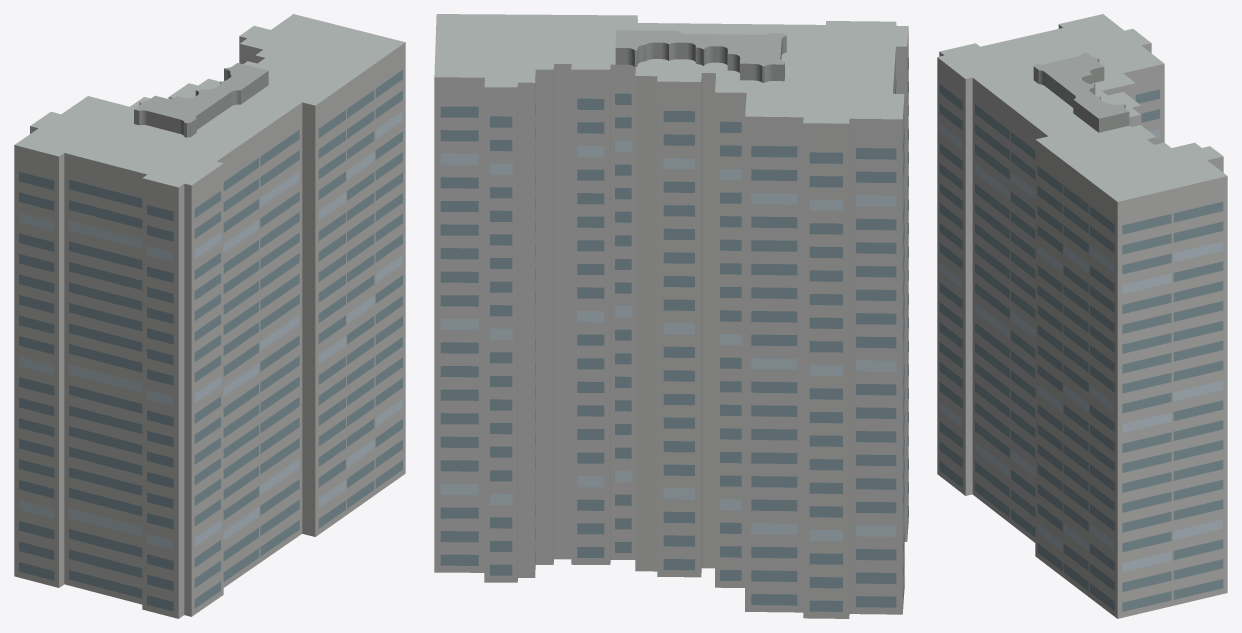
Rendered from fallback-acro-riverpark-100.glb.
3 renders of one model, left to right at view 1: azimuth 30°, elevation 25°; view 2: azimuth 150°, elevation 25°; view 3: azimuth 270°, elevation 25°, orthographic. The views are drawn at different scales.
Parts seen in each view (by area): view 1: fallback-acro-riverpark-100; view 2: fallback-acro-riverpark-100; view 3: fallback-acro-riverpark-100.
Part boxes in pixels (left/top/right/bottom): fallback-acro-riverpark-100: left=14, top=14, right=405, bottom=618; fallback-acro-riverpark-100: left=434, top=14, right=908, bottom=618; fallback-acro-riverpark-100: left=937, top=14, right=1227, bottom=618.
Size of the model in its own units: 69.24 by 74 by 45.21.
